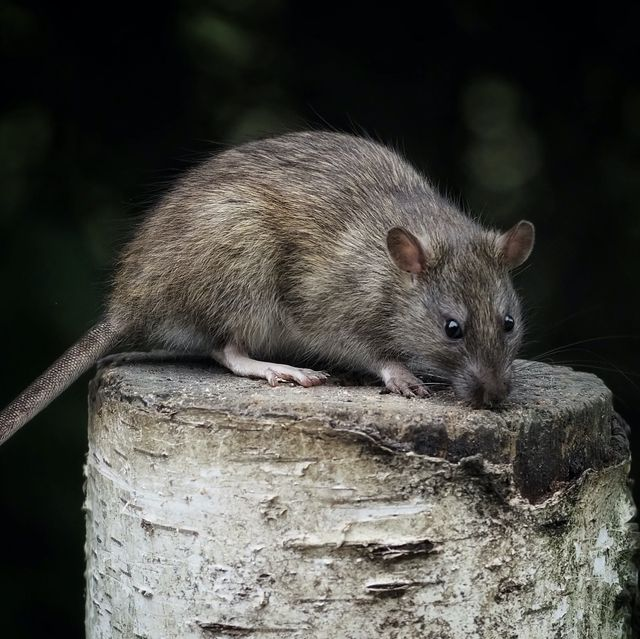Rat: (116, 96, 550, 415)
